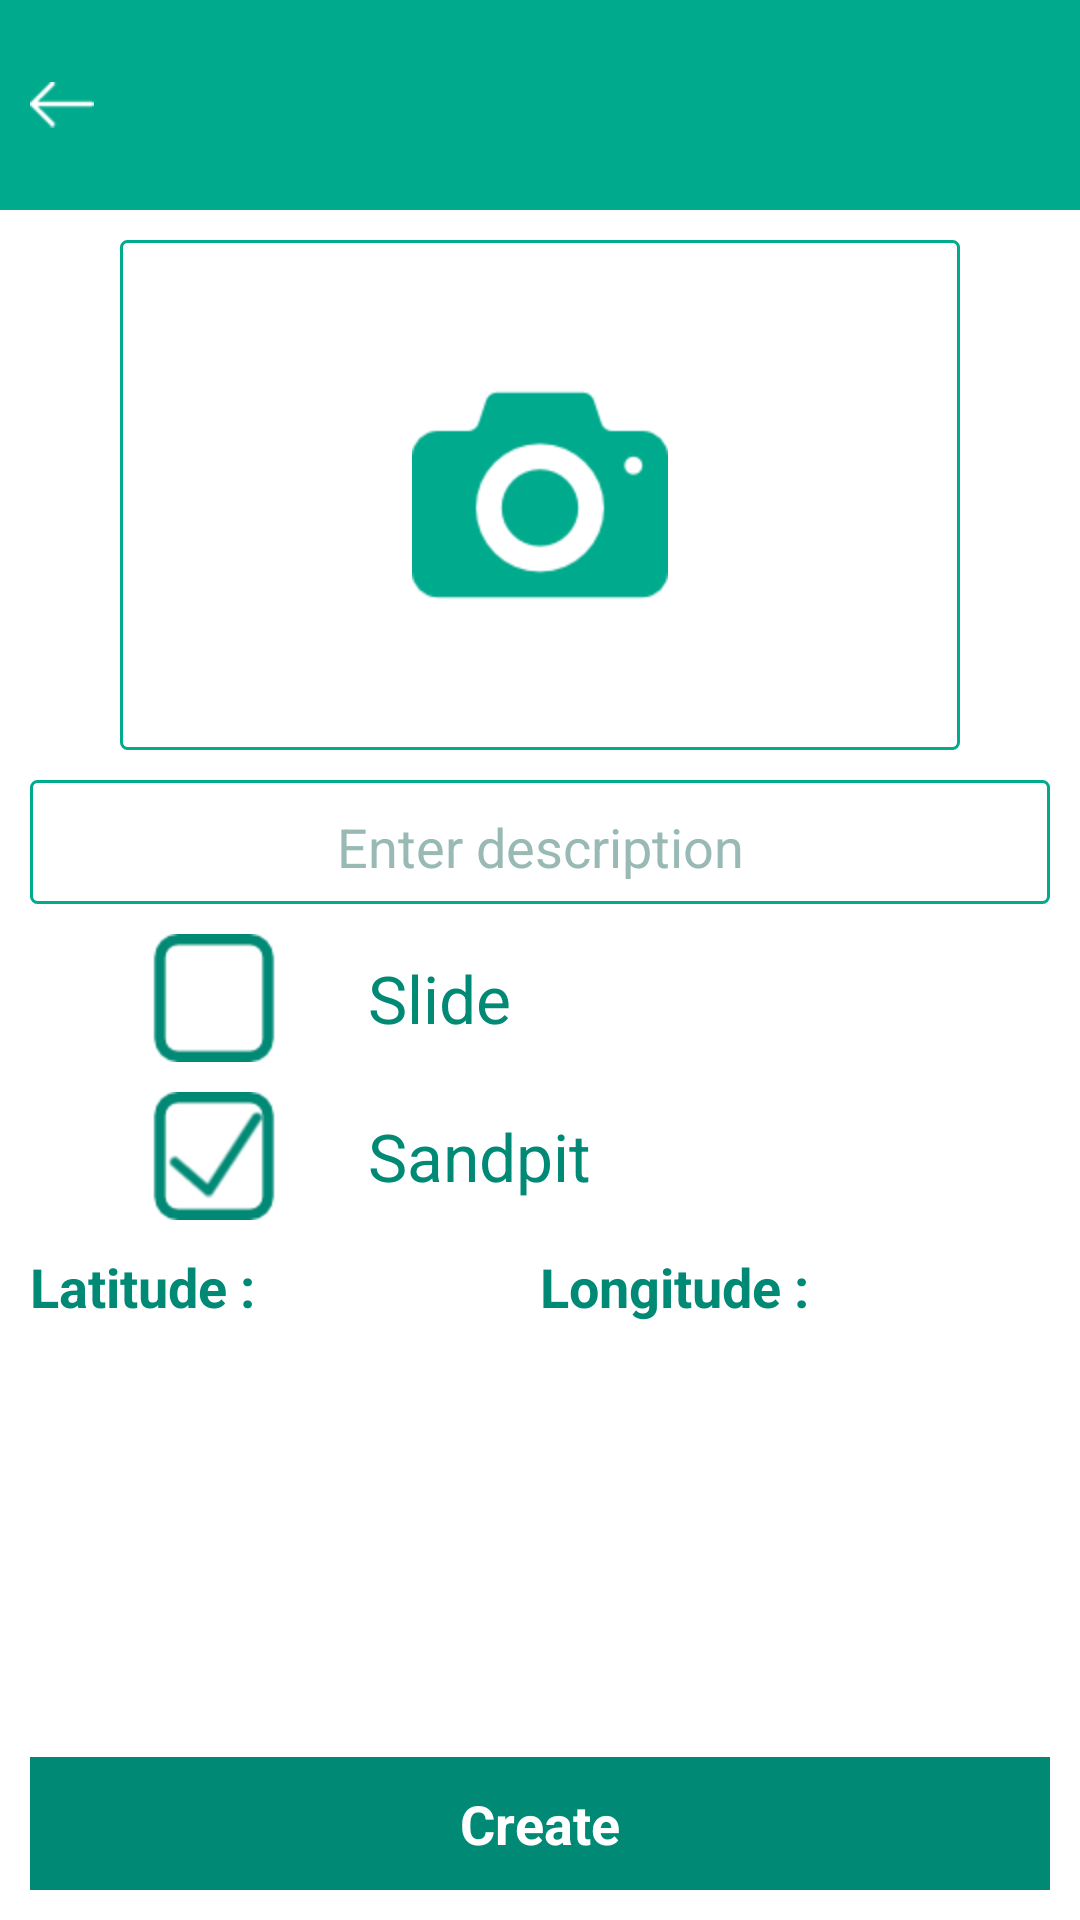

Icons on this 1080px x 1920px Android screen, each with the point to tap as (x,y):
back: (62,105)
camera: (540,495)
check: (214,1156)
uncheck: (214,998)
